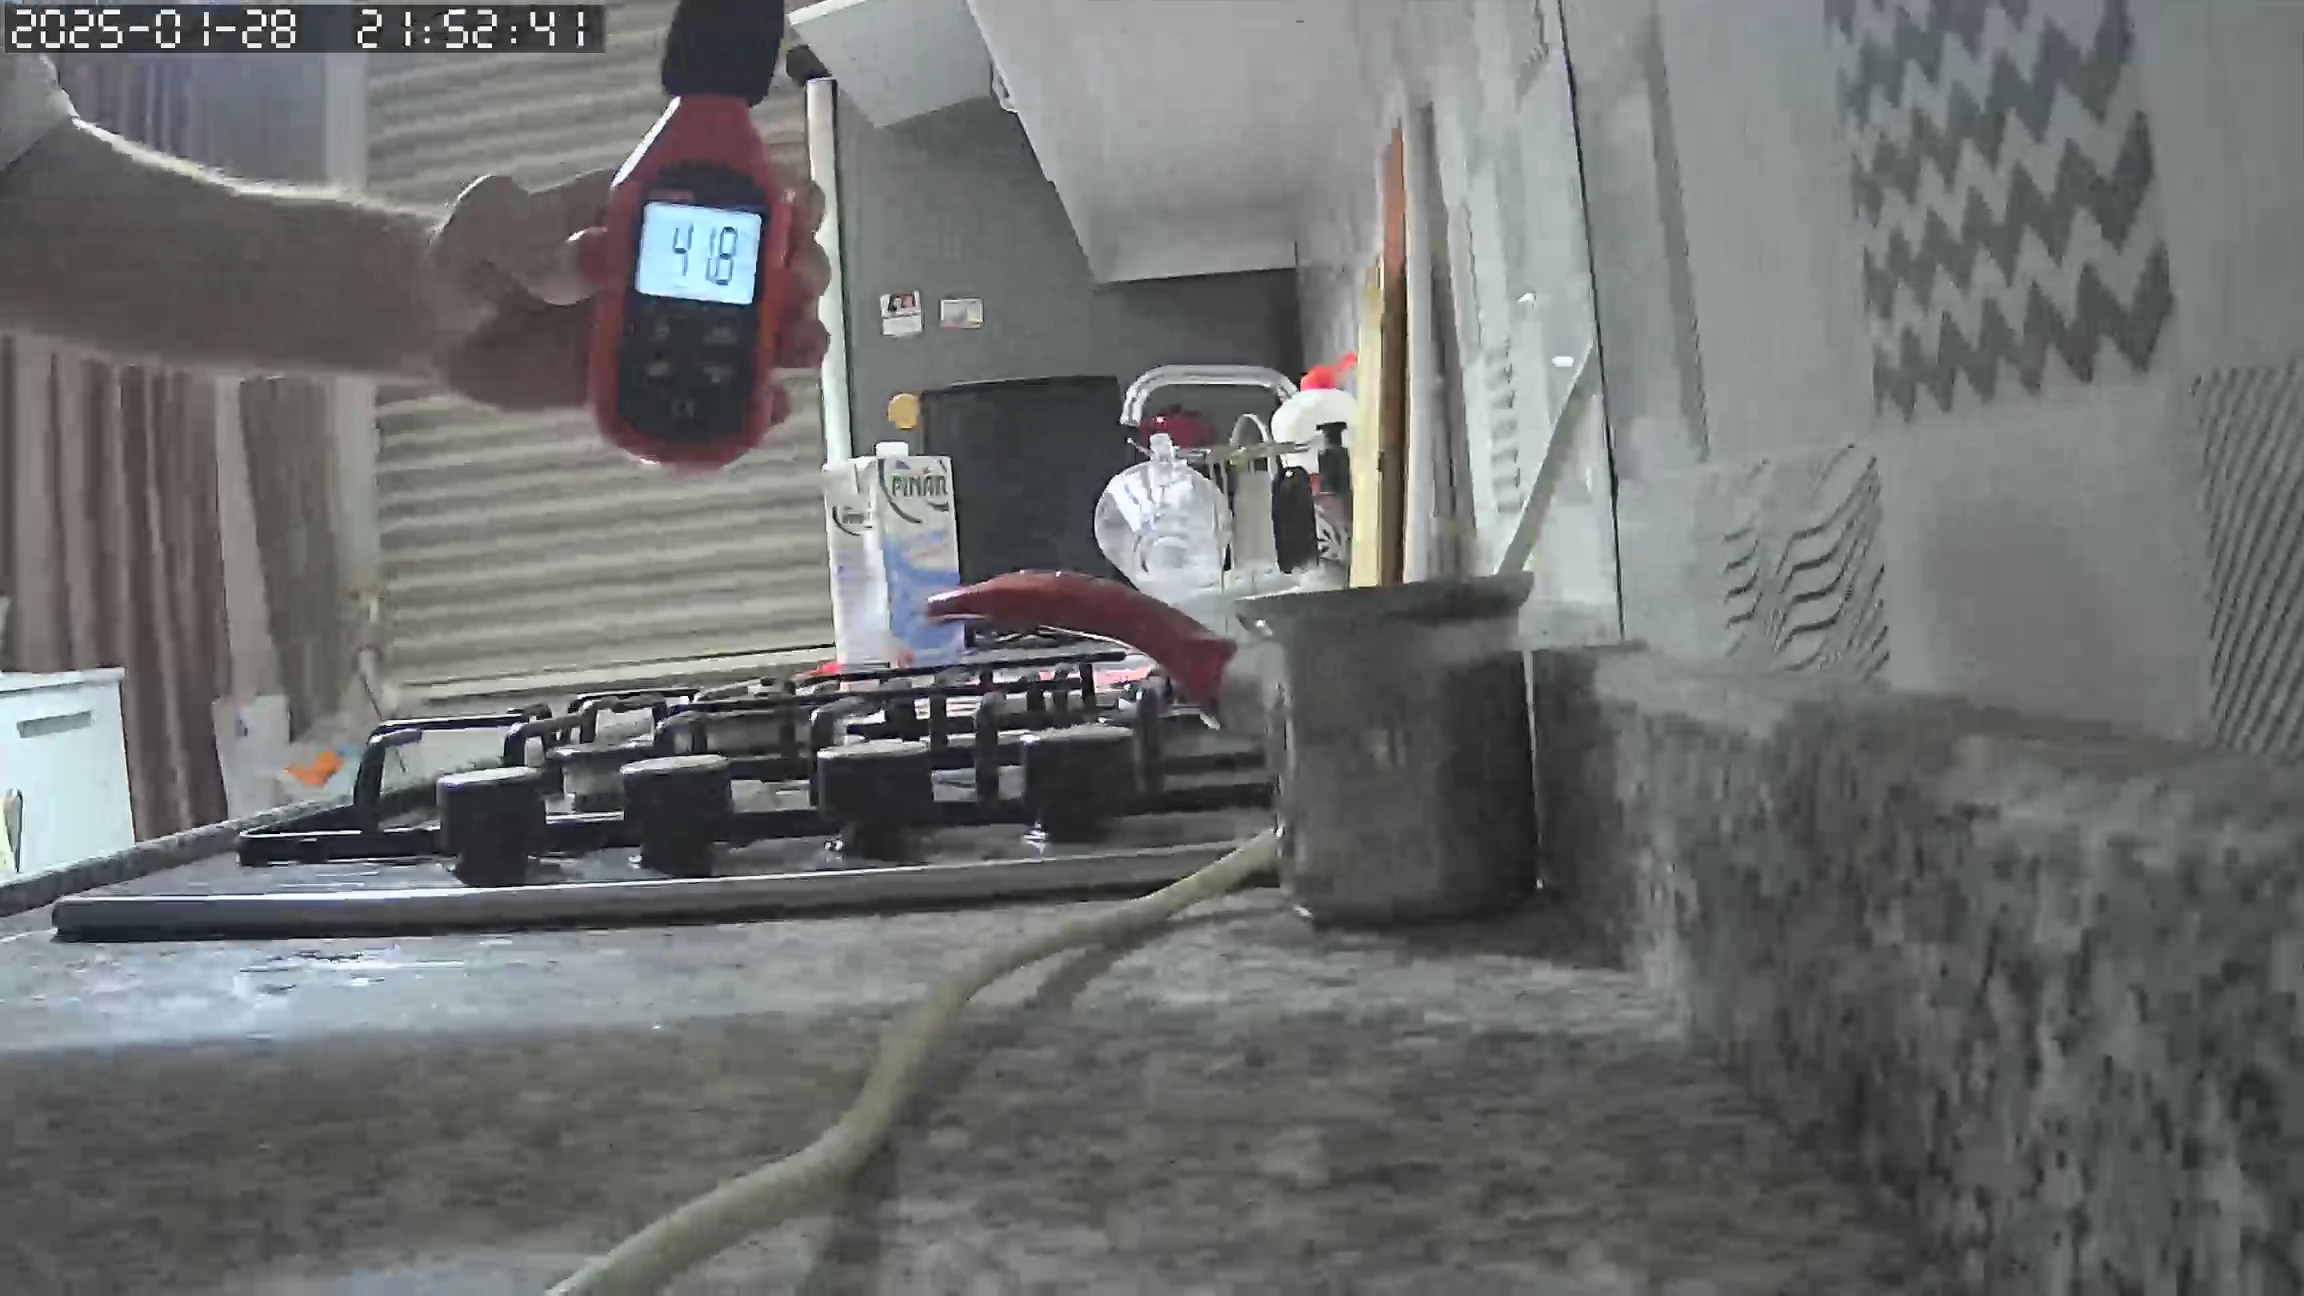screen: (633, 199, 760, 305)
